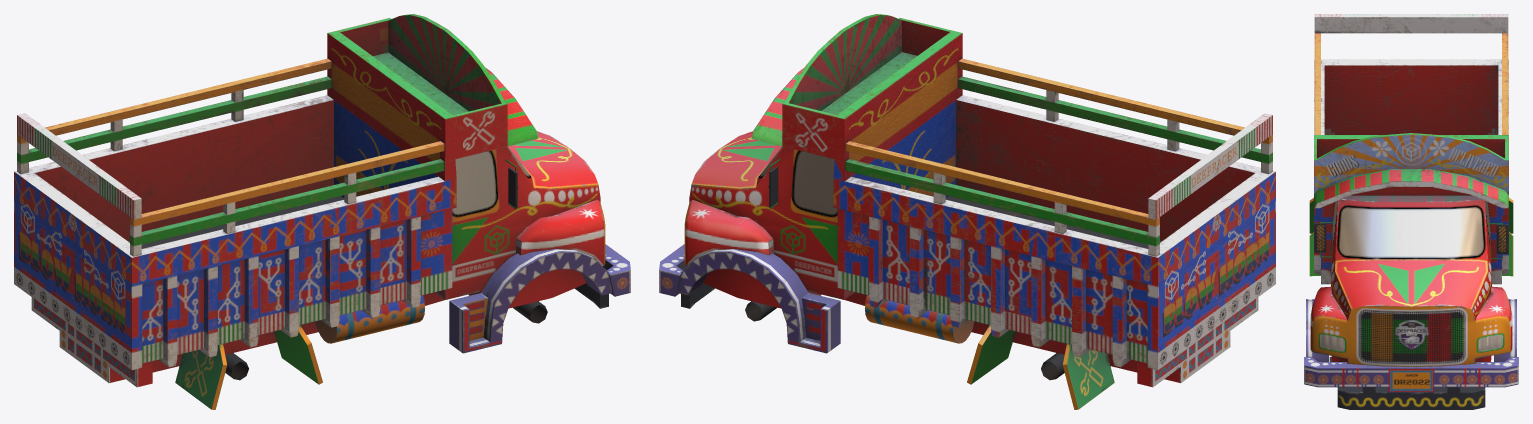
File: f1_lorry_01.dae
3 renders of one model, left to right at view 1: azimuth 30°, elevation 25°; view 2: azimuth 150°, elevation 25°; view 3: azimuth 270°, elevation 25°, orthographic. The views are drawn at different scales.
Parts seen in each view (by area): view 1: lorry_body; view 2: lorry_body; view 3: lorry_body.
Boxes of the visible parts, x1,y1,x2,y2 form: lorry_body: (14, 14, 630, 409); lorry_body: (659, 14, 1275, 409); lorry_body: (1304, 14, 1518, 409).
Size of the model in its own units: 0.3262 by 0.1463 by 0.1697.
Materials: 1 (1 with a texture image).
